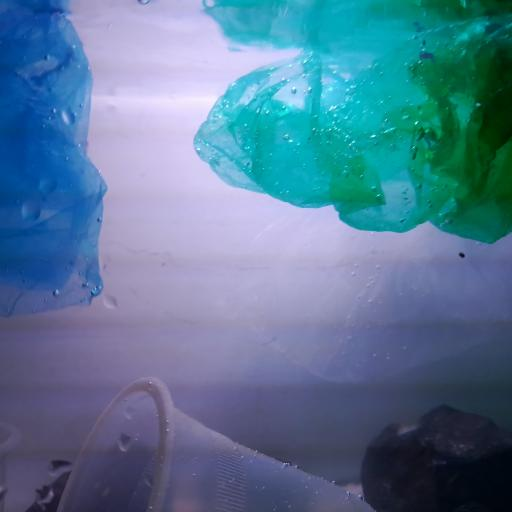plastic_bag: (188, 18, 512, 248), (4, 1, 106, 319)
plastic_cup: (53, 374, 377, 512), (0, 421, 23, 512)
